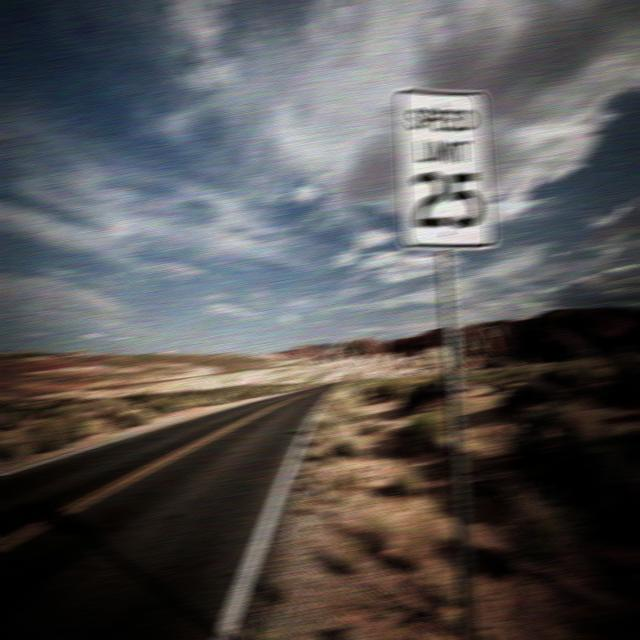speedLimit25: (394, 85, 500, 252)
